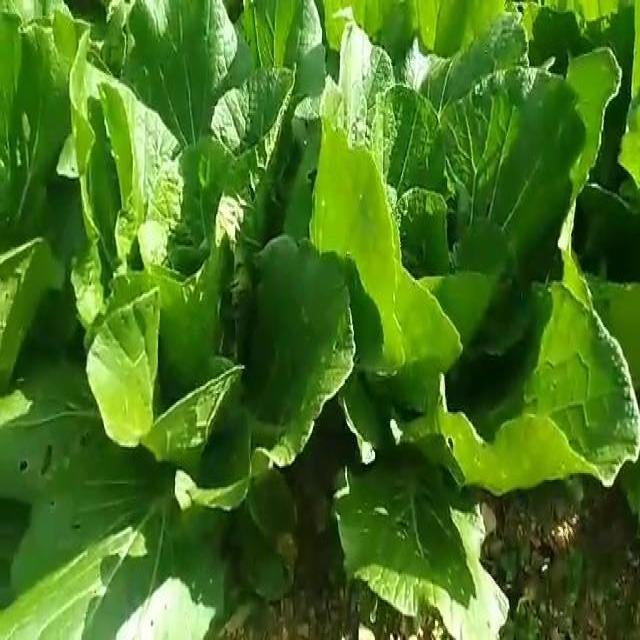Cabbage: (341, 38, 640, 616), (68, 28, 348, 518)
